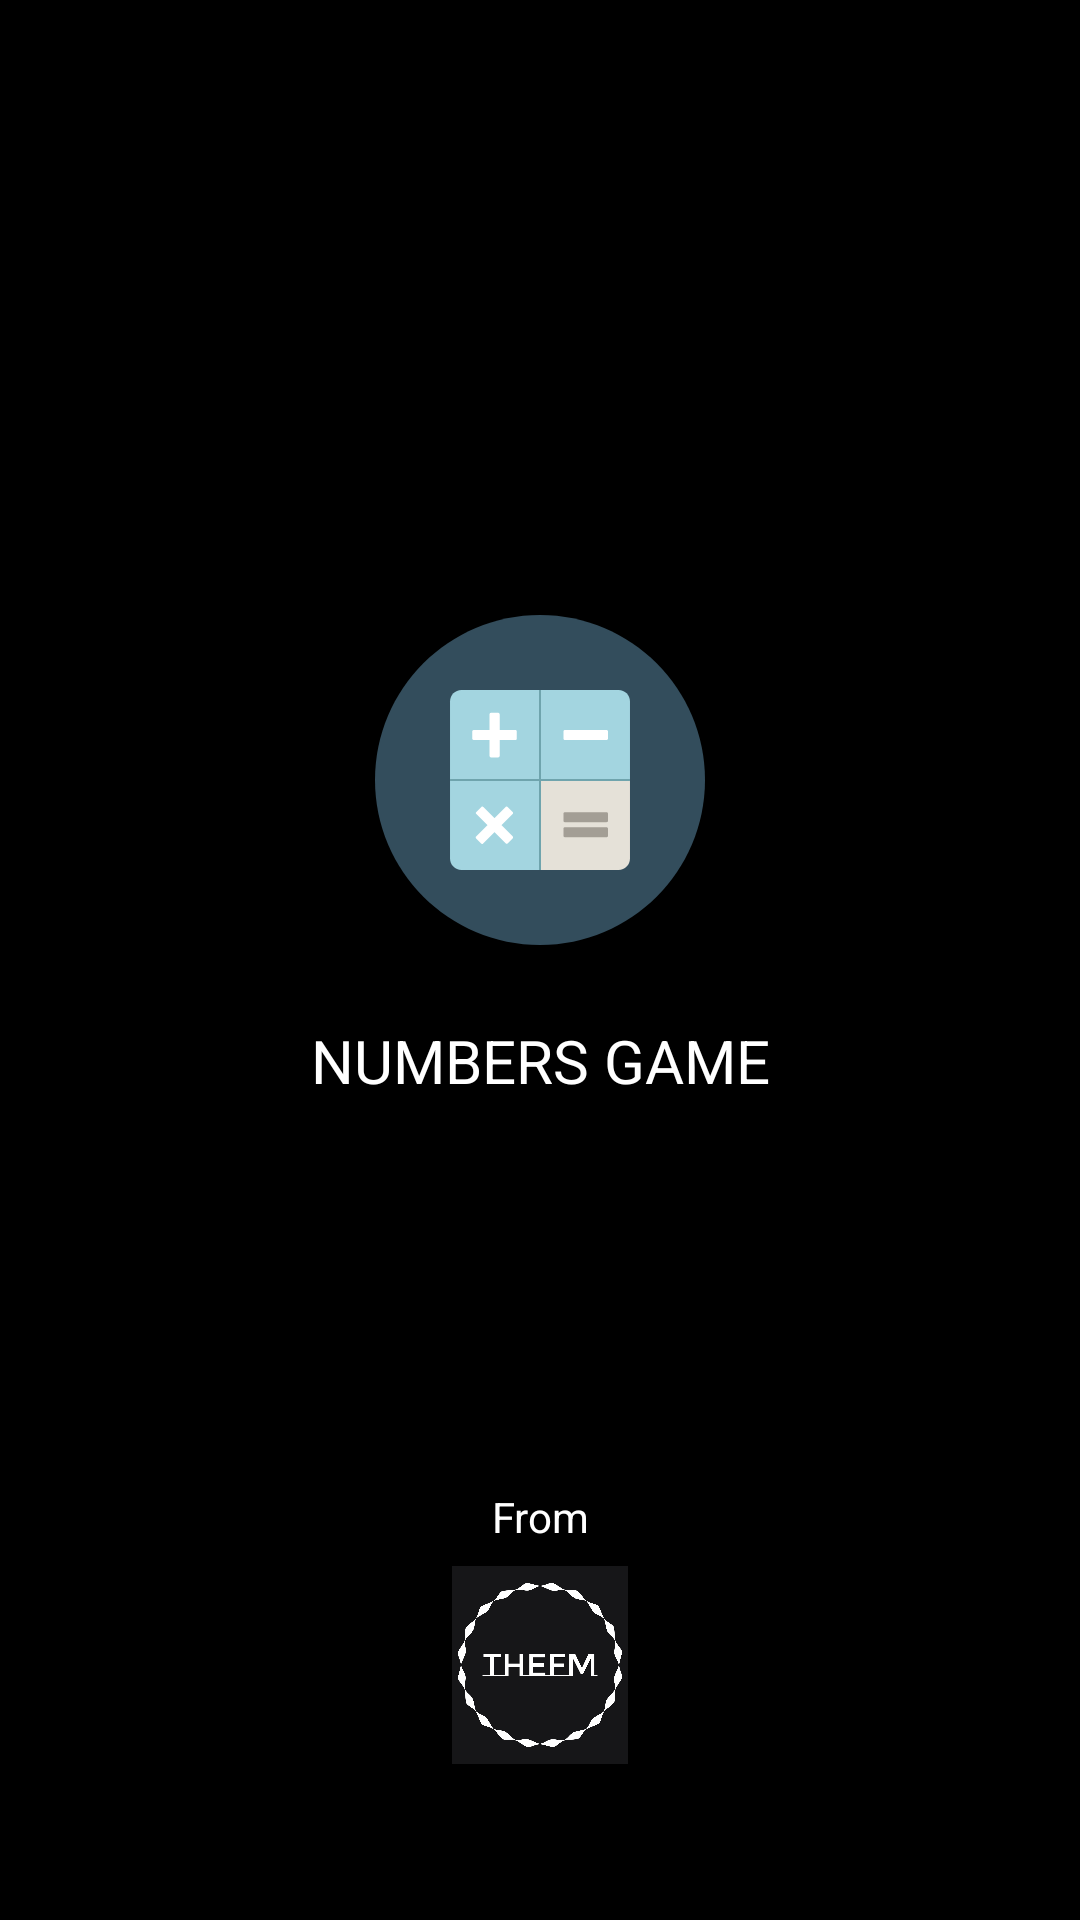

Icon bounding boxes for this 1080*1920 phone screenshot, format (x1, y1, x2, y2):
calculator: (375, 615, 705, 945)
